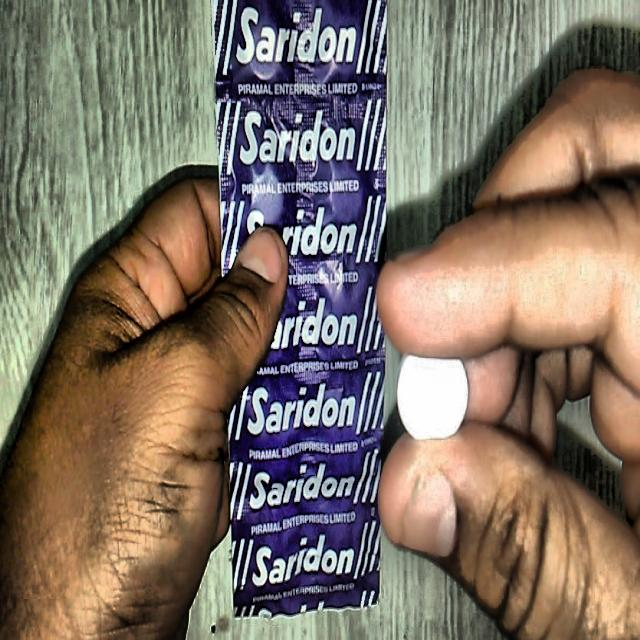Saridon: (217, 8, 387, 598)
